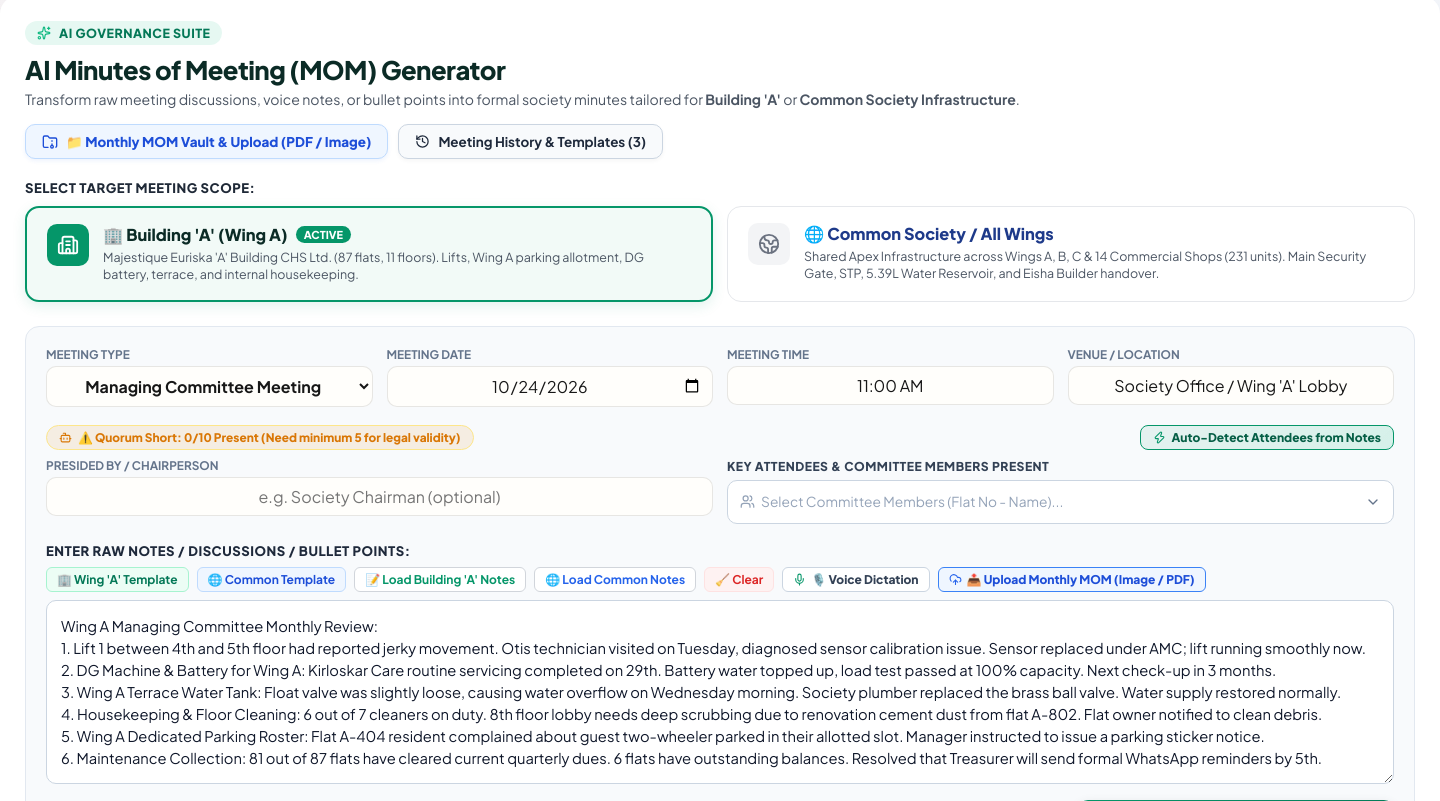
it: AiMomGenerator Component › switches scope to Common when clicked and updates button text and textarea
Click the text "🌐 Common Society / All Wings" at coordinates (929, 234), box [804,223,1054,244]
(page scrolled)
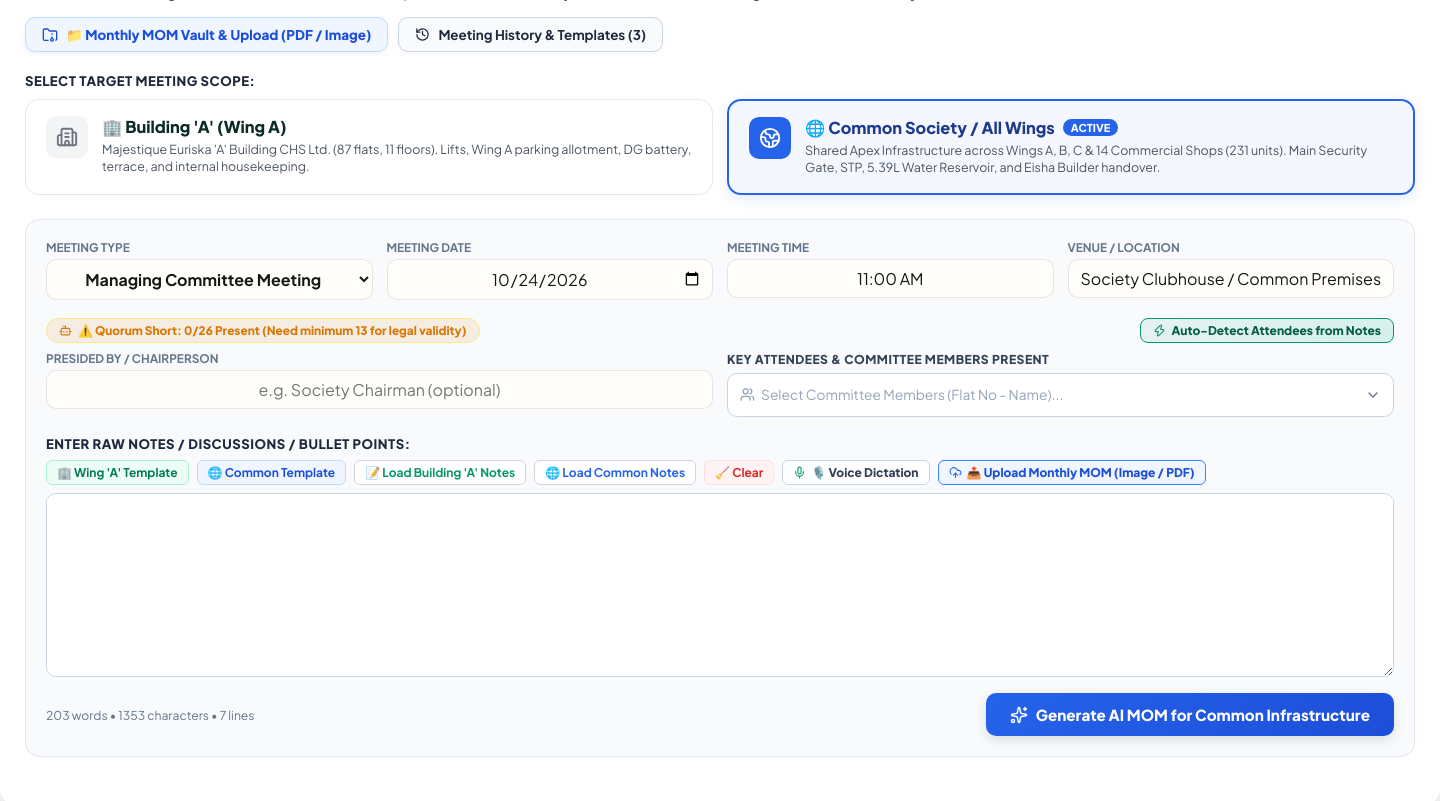
Check: the button "Generate AI MOM for Common Infrastructure" is shown, box [986,694,1394,736]
